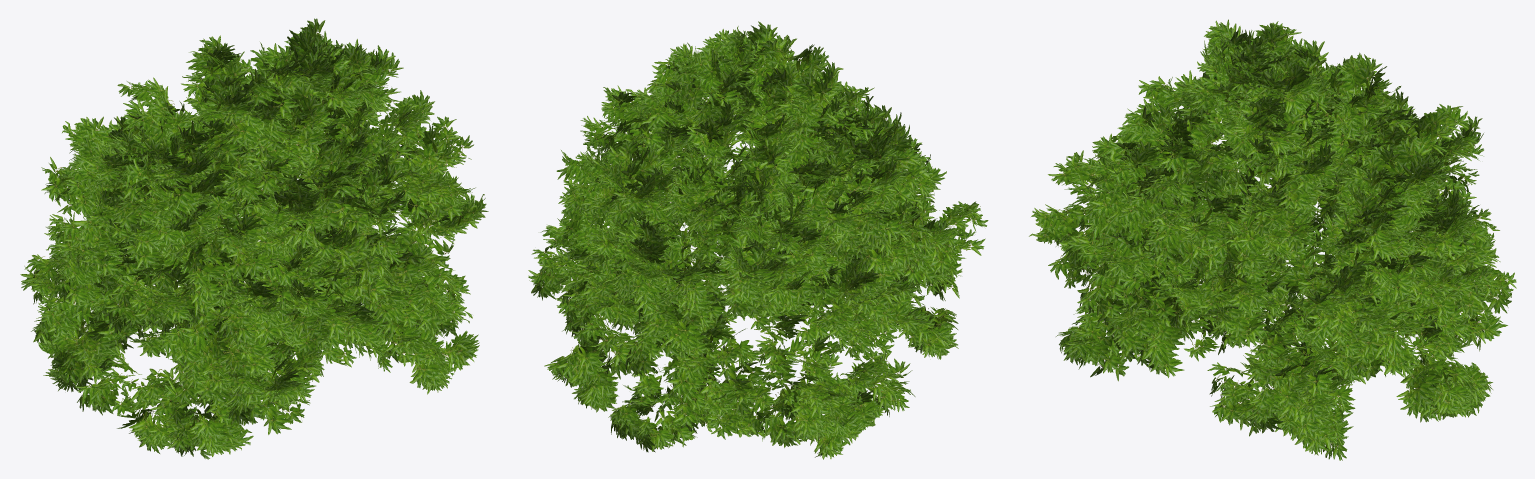
File: mango.fbx
3 renders of one model, left to right at view 1: azimuth 30°, elevation 25°; view 2: azimuth 150°, elevation 25°; view 3: azimuth 270°, elevation 25°, orthographic. The views are drawn at different scales.
Parts seen in each view (by area): view 1: leaves; view 2: leaves; view 3: leaves.
Part boxes in pixels (<box>): leaves: <box>20,18,488,459</box>; leaves: <box>528,21,988,459</box>; leaves: <box>1029,19,1516,460</box>.
Size of the model in its own units: 669 by 593 by 676.
1 material, 1 textured.
